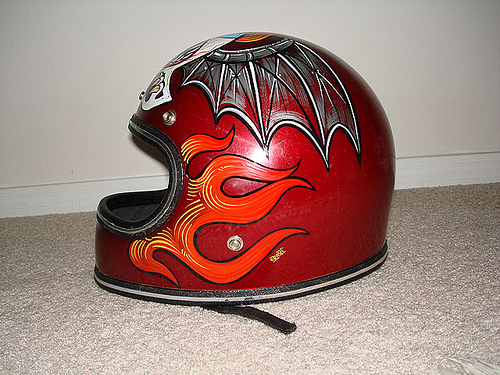helmet: (123, 36, 394, 290)
